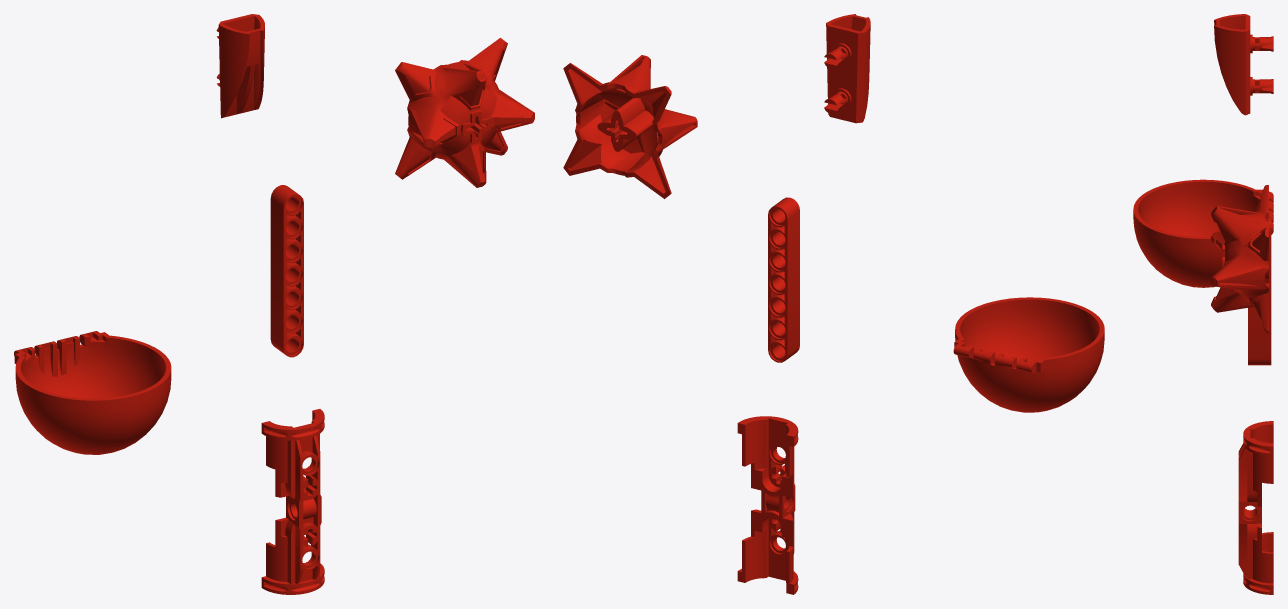
Rendered from Extra Parts for Toy Villen.obj.
3 renders of one model, left to right at view 1: azimuth 30°, elevation 25°; view 2: azimuth 150°, elevation 25°; view 3: azimuth 270°, elevation 25°, orthographic. The views are drawn at different scales.
Parts seen in each view (by area): view 1: Piece000, Piece004, Piece001, Piece002, Piece003; view 2: Piece000, Piece004, Piece001, Piece002, Piece003; view 3: Piece000, Piece004, Piece001, Piece003, Piece002.
Boxes of the visible parts, box(x1,y1,x2,y2) form: Piece000: box(14, 331, 171, 454); Piece004: box(395, 38, 534, 187); Piece001: box(261, 409, 324, 594); Piece002: box(270, 185, 303, 357); Piece003: box(216, 14, 264, 118); Piece000: box(953, 297, 1104, 412); Piece004: box(563, 55, 697, 198); Piece001: box(737, 416, 798, 594); Piece002: box(768, 197, 799, 362); Piece003: box(824, 14, 870, 123); Piece000: box(1133, 179, 1273, 287); Piece004: box(1211, 185, 1268, 333); Piece001: box(1238, 421, 1273, 594); Piece003: box(1214, 14, 1273, 115); Piece002: box(1248, 217, 1271, 365).
Size of the model in its own units: 460 by 500 by 120.
